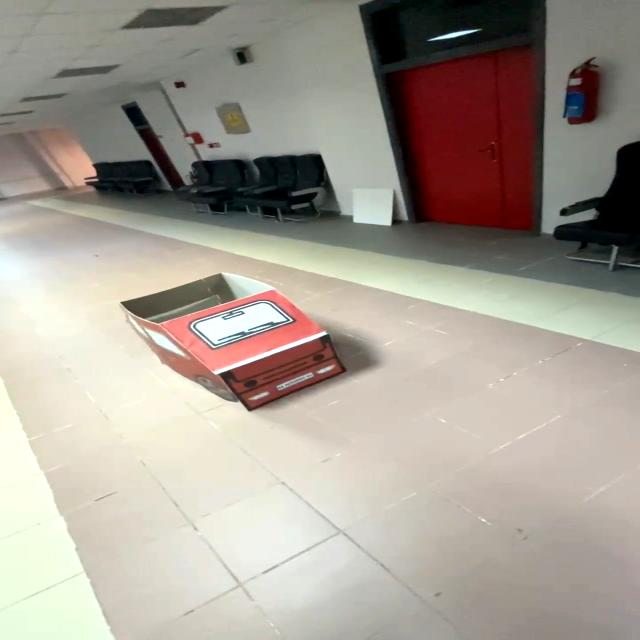red_car: (91, 261, 402, 433)
